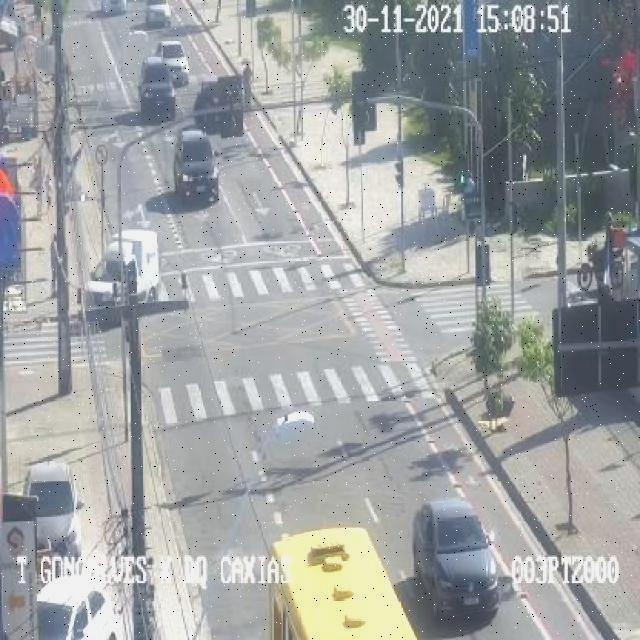Bus: (254, 521, 424, 640)
Car: (413, 500, 499, 621), (22, 460, 82, 558), (36, 575, 126, 640), (173, 130, 218, 201), (193, 76, 244, 136), (139, 60, 177, 121), (154, 40, 190, 85), (145, 1, 171, 27), (101, 0, 128, 16)
Cycle: (577, 235, 625, 293)
Van: (85, 228, 162, 318)
